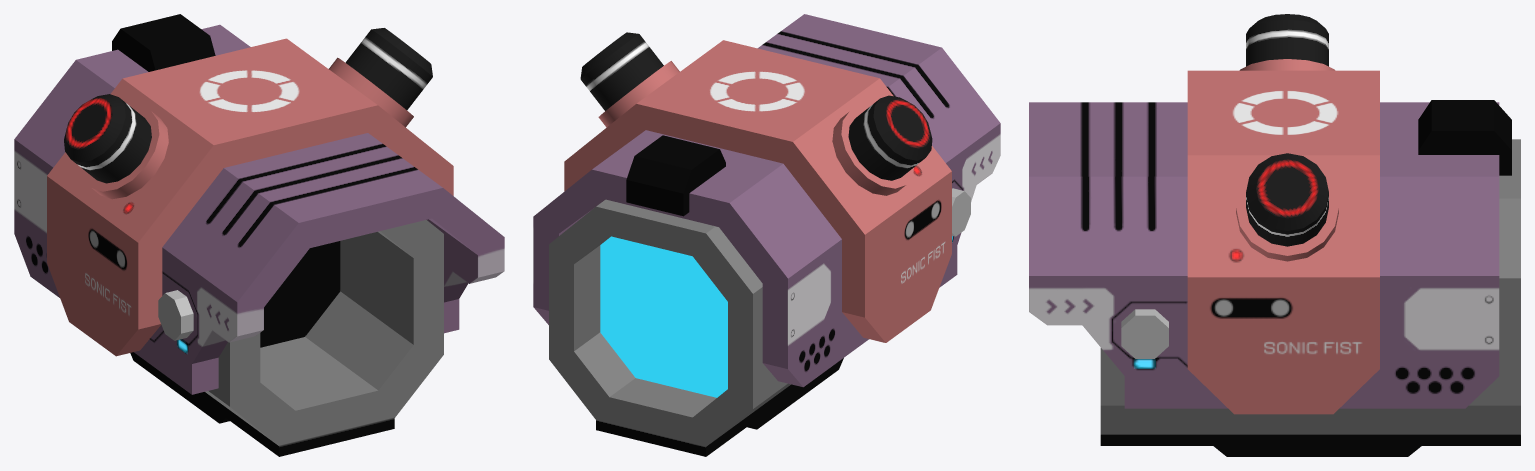
The model's file is IG_Gun_Storm_Space.fbx.
The picture shows the model from 3 angles, left to right: view 1: azimuth 30°, elevation 25°; view 2: azimuth 150°, elevation 25°; view 3: azimuth 270°, elevation 25°; orthographic projection. The views are drawn at different scales.
Parts seen in each view (by area): view 1: pCylinder6; view 2: pCylinder6; view 3: pCylinder6.
Boxes of the visible parts, bbox=[...] form: pCylinder6: bbox=[14, 14, 504, 456]; pCylinder6: bbox=[533, 14, 1000, 456]; pCylinder6: bbox=[1029, 14, 1520, 456].
Size of the model in its own units: 0.5322 by 0.4621 by 0.6043.
